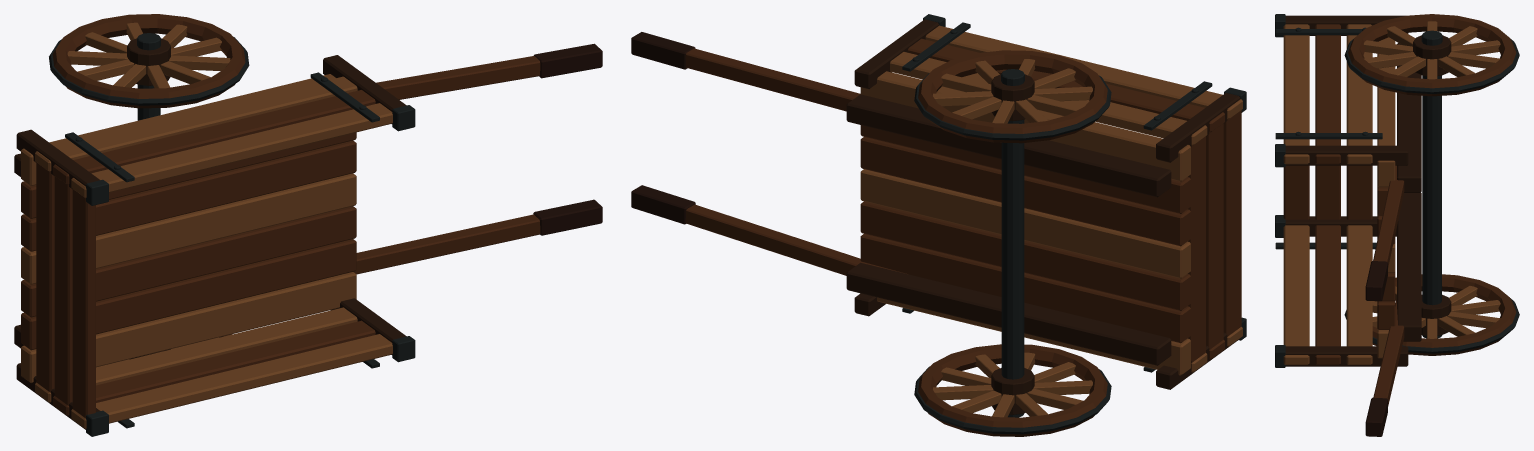
Rendered from SM_AskirDeliveryCart.obj.
The picture shows the model from 3 angles, left to right: view 1: azimuth 30°, elevation 25°; view 2: azimuth 150°, elevation 25°; view 3: azimuth 270°, elevation 25°; orthographic projection. The views are drawn at different scales.
Parts seen in each view (by area): view 1: SM_AskirDeliveryCart; view 2: SM_AskirDeliveryCart; view 3: SM_AskirDeliveryCart.
Part boxes in pixels (x1,y1,x2,y2): SM_AskirDeliveryCart: (14, 14, 602, 436); SM_AskirDeliveryCart: (631, 14, 1246, 436); SM_AskirDeliveryCart: (1275, 14, 1519, 436).
Size of the model in its own units: 2.98 by 1.74 by 1.28.
